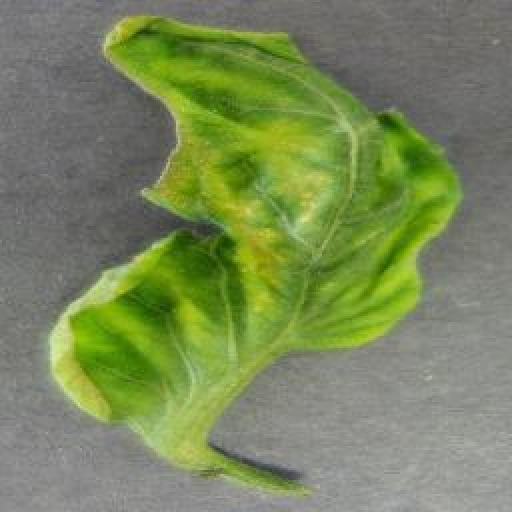disease_tomato: (54, 8, 462, 422)
